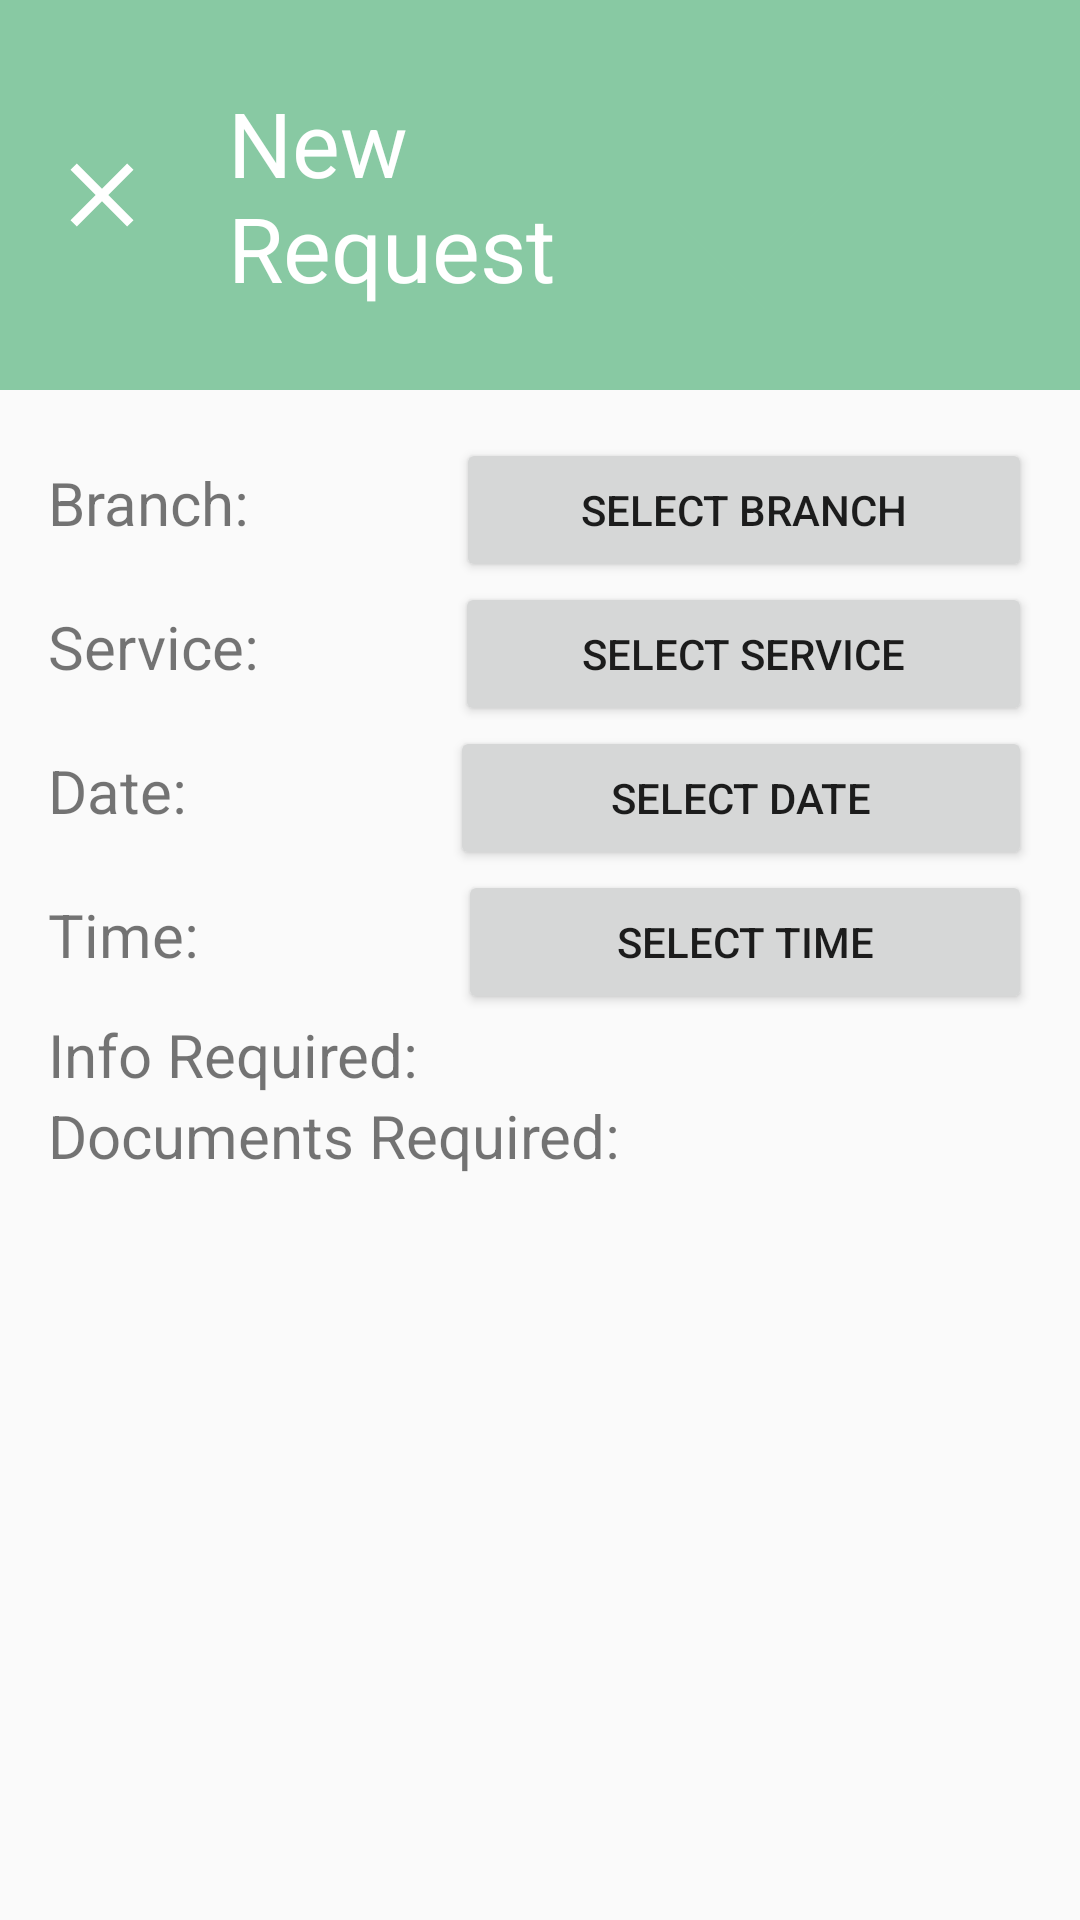

Where to tap for icons on this 1080*1920 app screen, as (x,y):
close: (102,195)
